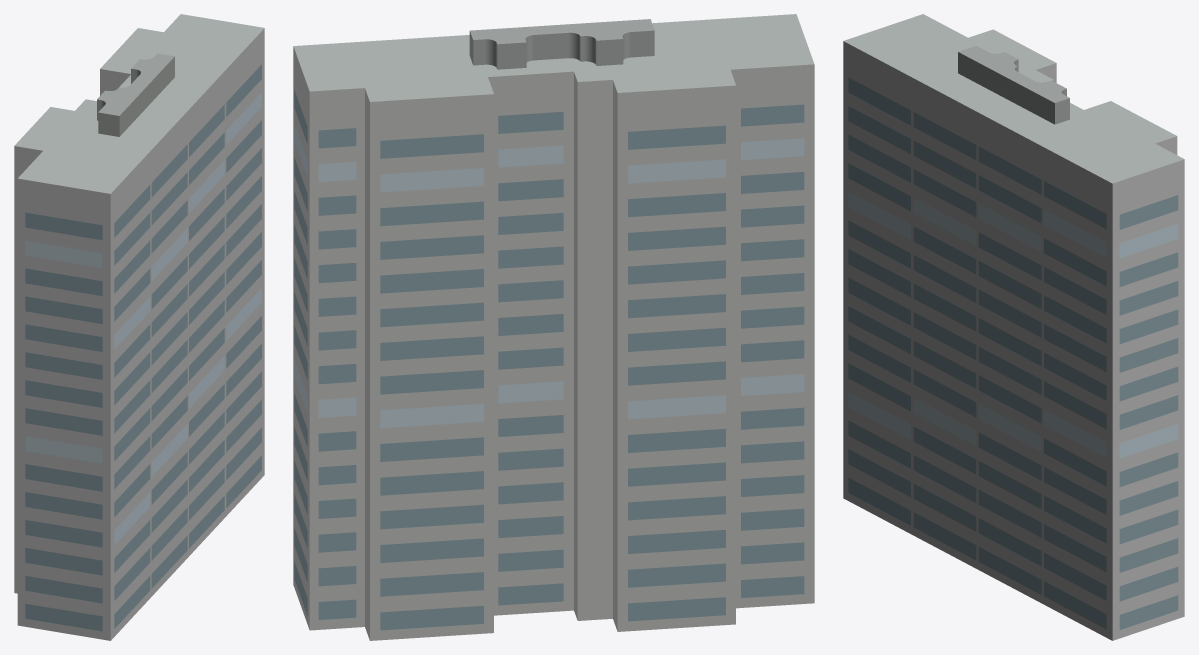
Rendered from fallback-gaepo-raemian-forest-102.glb.
3 renders of one model, left to right at view 1: azimuth 30°, elevation 25°; view 2: azimuth 150°, elevation 25°; view 3: azimuth 270°, elevation 25°, orthographic. The views are drawn at different scales.
Visible parts, largest first — view 1: fallback-gaepo-raemian-forest-102; view 2: fallback-gaepo-raemian-forest-102; view 3: fallback-gaepo-raemian-forest-102.
Part boxes in pixels (x1,y1,x2,y2): fallback-gaepo-raemian-forest-102: (14,14,264,640); fallback-gaepo-raemian-forest-102: (293,14,814,640); fallback-gaepo-raemian-forest-102: (843,14,1184,640).
Size of the model in its own units: 37.98 by 50 by 32.32.
